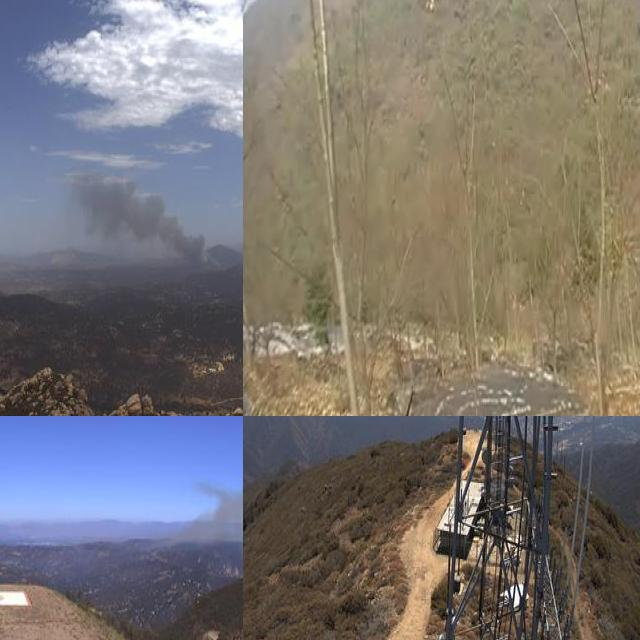smoke: (61, 162, 228, 279), (176, 474, 243, 574)
